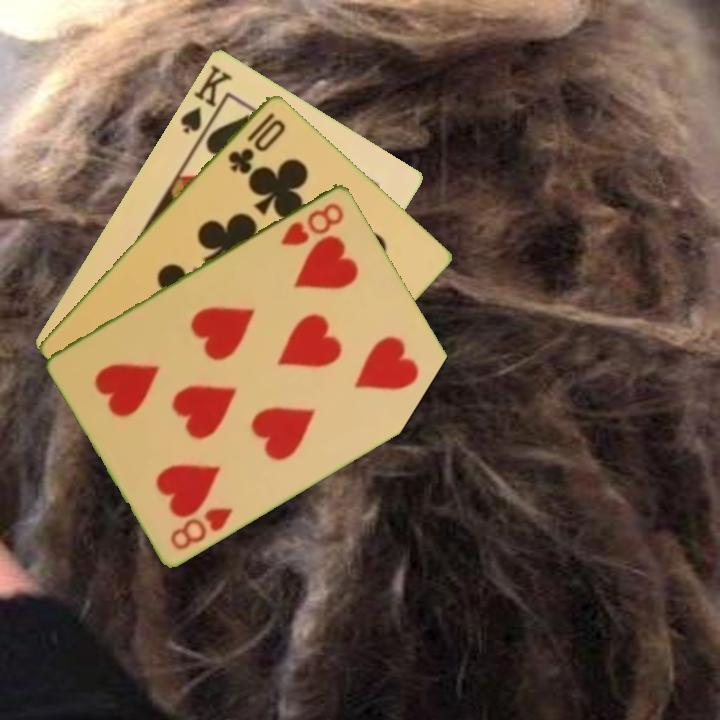10c: (224, 108, 289, 177)
8h: (278, 198, 347, 249), (166, 503, 236, 553)
Ks: (176, 60, 236, 136)
